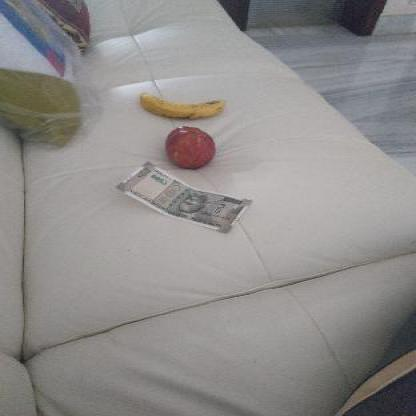New500Front: (114, 159, 250, 233)
